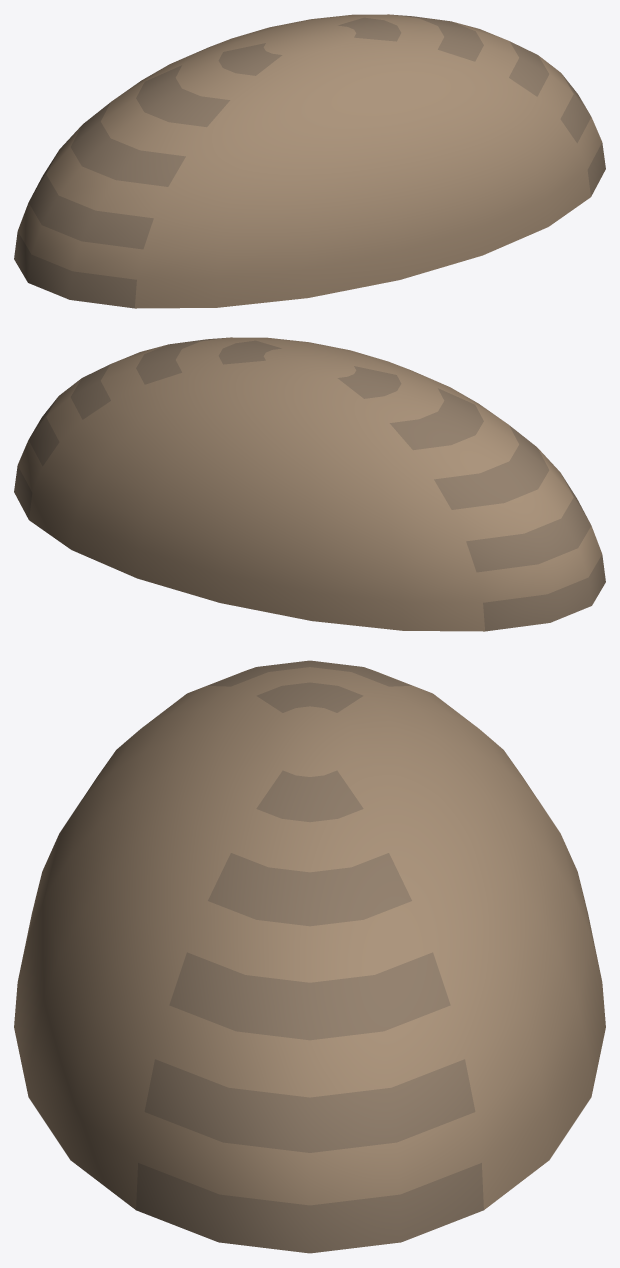
File: Bread.fbx
The picture shows the model from 3 angles, top to bottom: view 1: azimuth 30°, elevation 25°; view 2: azimuth 150°, elevation 25°; view 3: azimuth 270°, elevation 25°; orthographic projection. The views are drawn at different scales.
Visible parts, largest first — view 1: pSphere1; view 2: pSphere1; view 3: pSphere1.
Part boxes in pixels (x1,y1,x2,y2): pSphere1: (14,14,605,308); pSphere1: (14,337,605,631); pSphere1: (14,660,605,1253).
Bounding box in the file's own units: 1.63 × 0.4847 × 0.8994.
